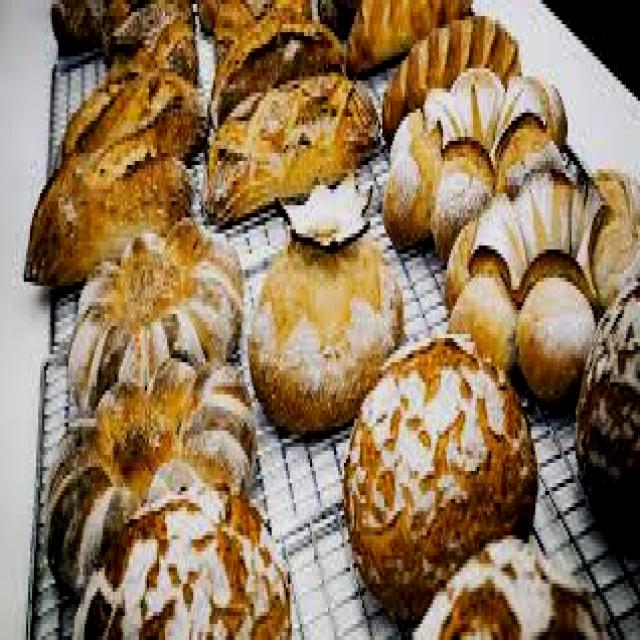organic: (345, 354, 523, 601), (445, 165, 616, 406), (64, 214, 246, 414), (249, 230, 401, 438), (93, 492, 286, 639), (225, 71, 382, 224), (407, 74, 566, 215), (25, 160, 184, 295), (212, 16, 348, 130), (64, 65, 204, 166), (396, 19, 531, 120), (346, 1, 472, 75), (56, 0, 190, 67), (585, 167, 640, 316)
